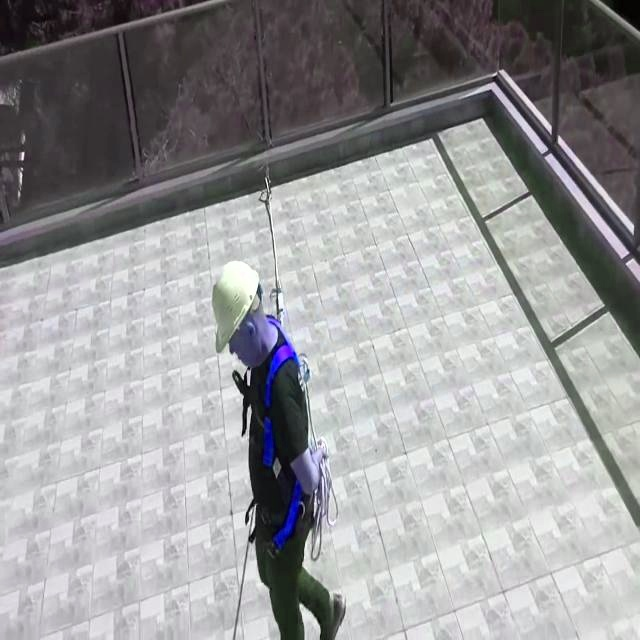safety belt: (231, 346, 340, 564)
